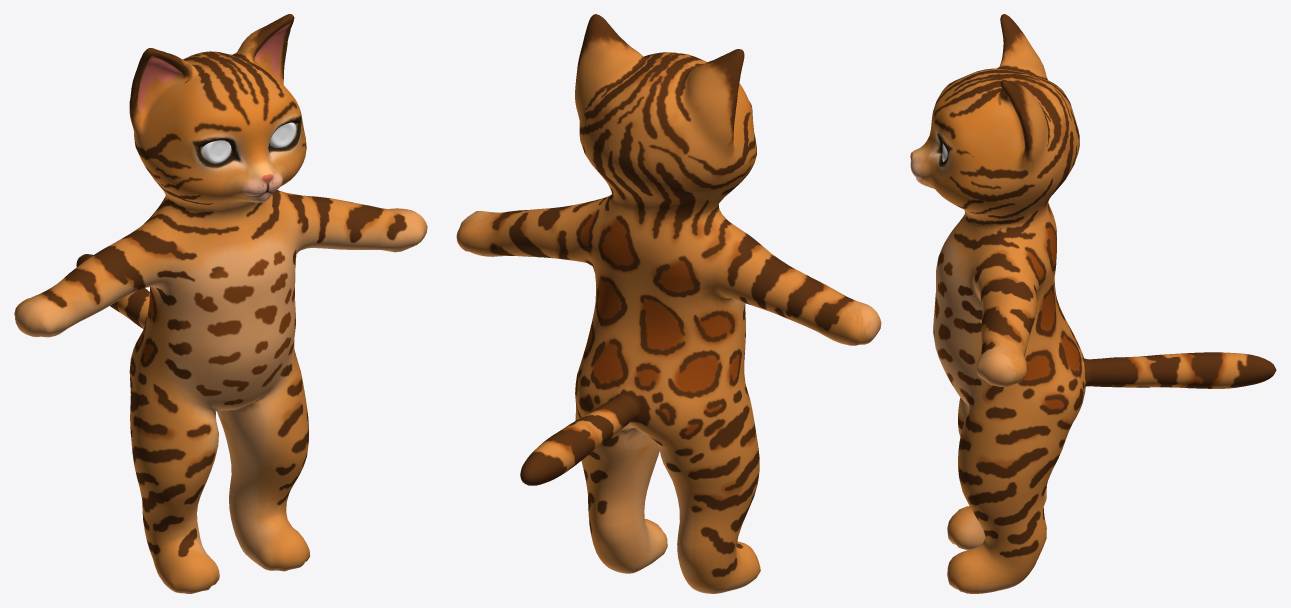
Rendered from CAT.glb.
3 views of the same model, side by side, from view 1: azimuth 30°, elevation 25°; view 2: azimuth 150°, elevation 25°; view 3: azimuth 270°, elevation 25° (orthographic). The views are drawn at different scales.
Visible parts, largest first — view 1: cat_in_bed-RETOP4, eyes.001; view 2: cat_in_bed-RETOP4; view 3: cat_in_bed-RETOP4.
Part boxes in pixels (<box>): cat_in_bed-RETOP4: <box>14,14,427,593</box>; eyes.001: <box>201,122,296,163</box>; cat_in_bed-RETOP4: <box>456,14,881,593</box>; cat_in_bed-RETOP4: <box>910,14,1276,593</box>.
Bounding box in the file's own units: 3.43 × 4.33 × 2.77.
2 materials, 1 textured.
